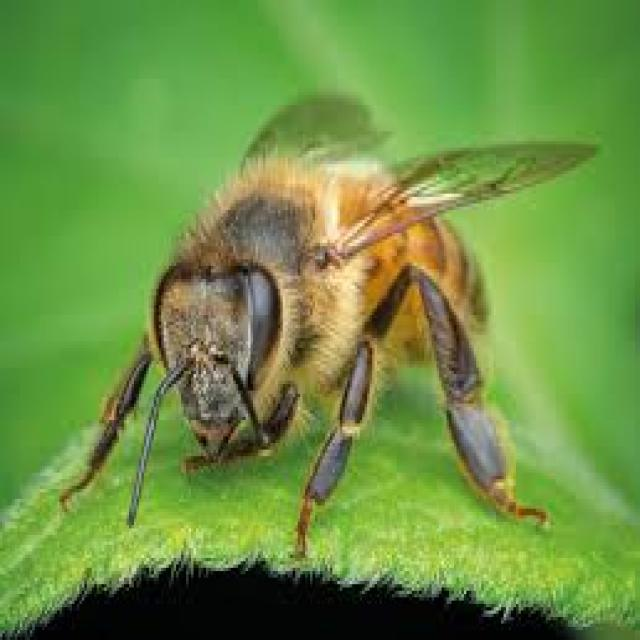Bees: (59, 93, 596, 584)
